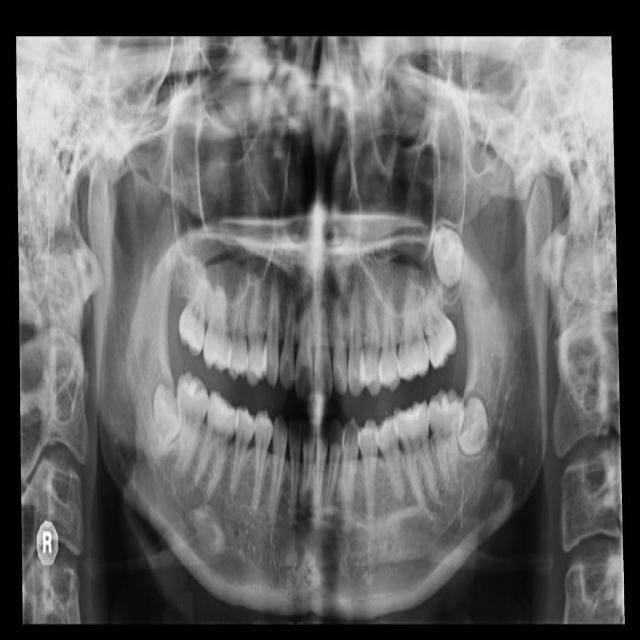73: (590, 564, 598, 574)
BioHorizons Implant: (413, 270, 463, 371)
BioLife Implant: (432, 227, 465, 289)
Biomet 3i Implant: (454, 395, 494, 460)
Blue Sky Bio Implant: (421, 387, 466, 494)
Caries: (177, 261, 208, 356)
Implant: (176, 371, 210, 472)
Keystone Dental Implant: (148, 381, 187, 461)
